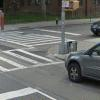Crosswalk: (2, 26, 74, 73)
